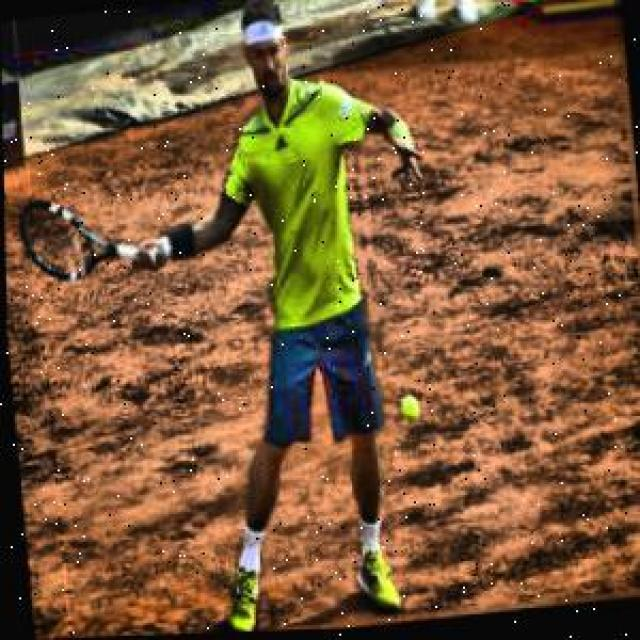tennis-ball: (398, 398, 420, 426)
